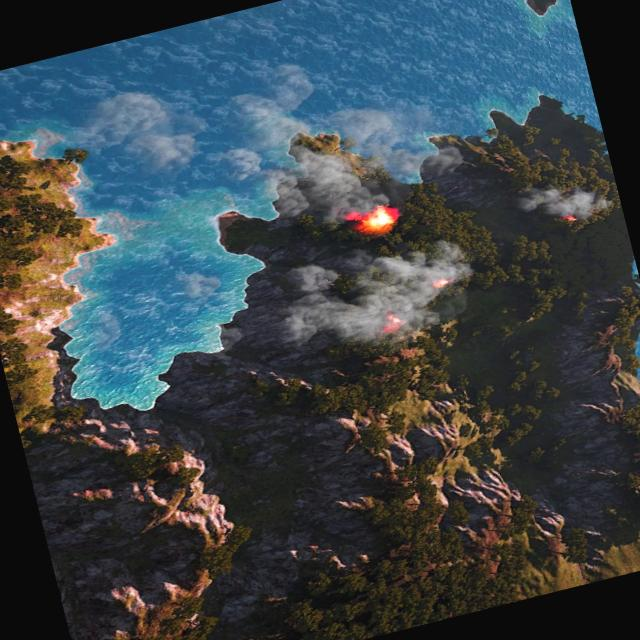fire: (352, 204, 400, 237), (377, 310, 405, 336), (432, 277, 450, 289), (562, 212, 578, 225)
smoke: (29, 17, 478, 293), (262, 220, 482, 367), (512, 172, 614, 236)
